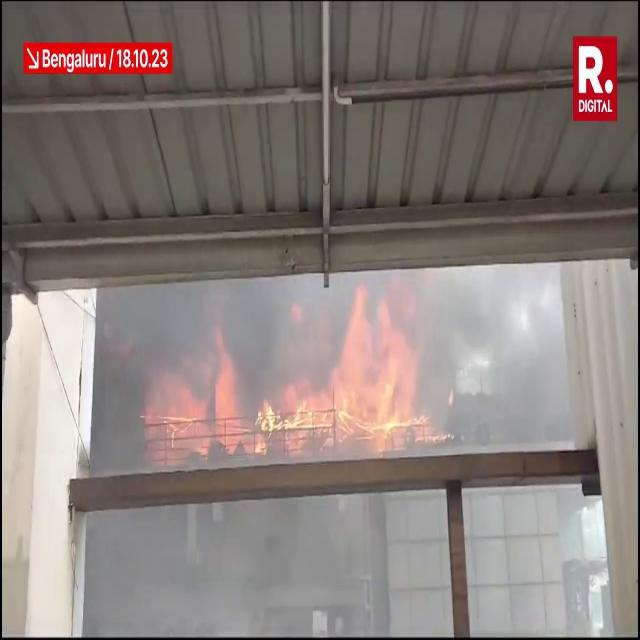Fire: (144, 290, 438, 456)
